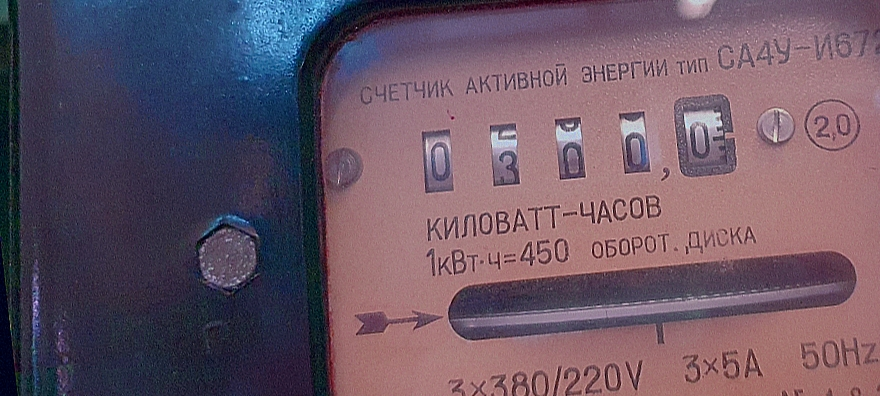0: (618, 126, 648, 173), (423, 135, 451, 184), (682, 116, 711, 161), (555, 136, 583, 180)
3: (491, 145, 518, 186)
screen: (393, 71, 757, 224)
